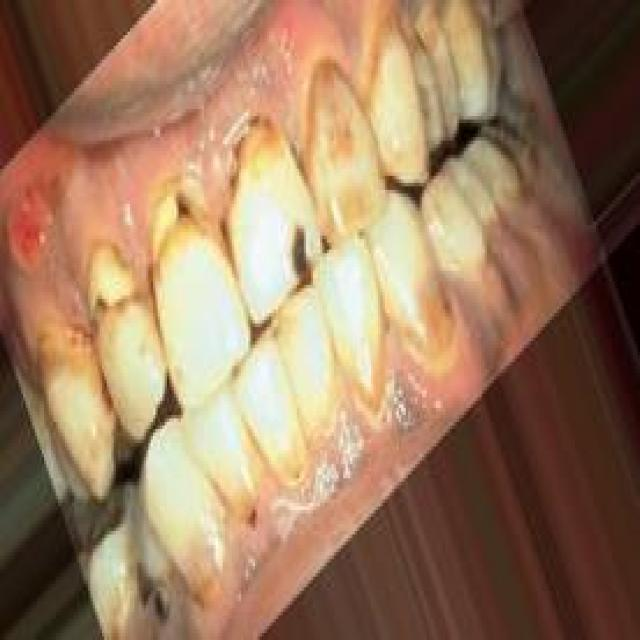caries: (144, 166, 221, 270), (221, 109, 277, 198), (83, 238, 136, 328), (282, 214, 323, 298), (130, 555, 174, 630)
